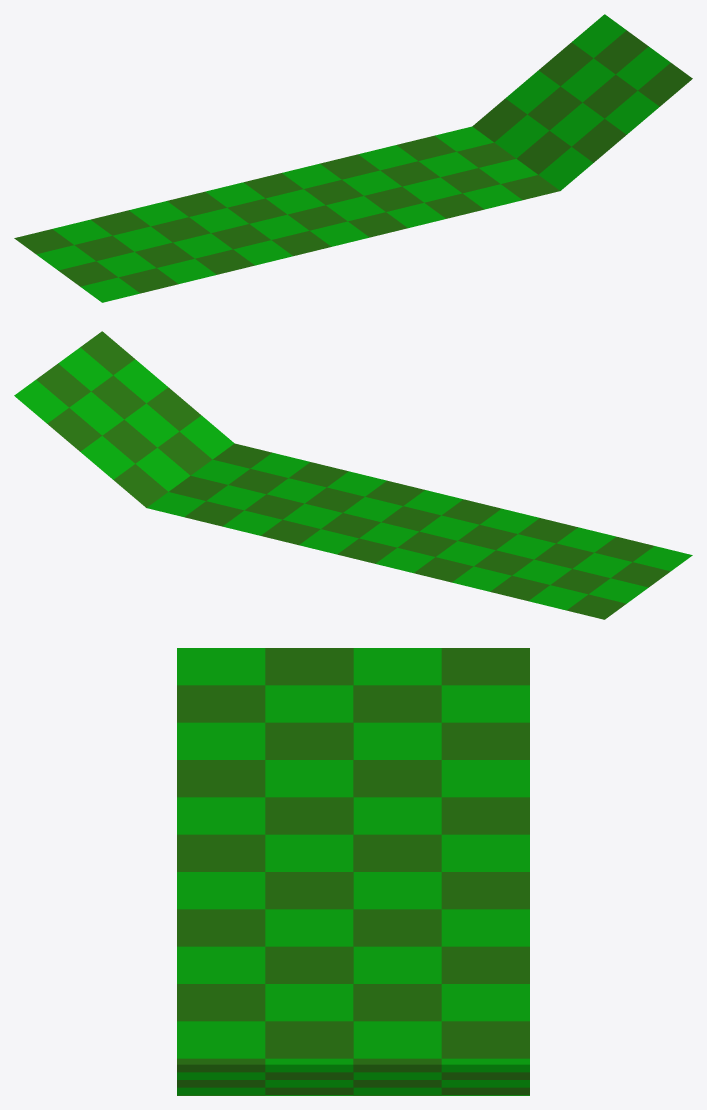
File: hole3Ramp.fbx
3 views of the same model, one above another, from view 1: azimuth 30°, elevation 25°; view 2: azimuth 150°, elevation 25°; view 3: azimuth 270°, elevation 25° (orthographic). The views are drawn at different scales.
Parts seen in each view (by area): view 1: Plane.001; view 2: Plane.001; view 3: Plane.001.
Boxes of the visible parts, x1,y1,x2,y2 form: Plane.001: [14, 14, 692, 302]; Plane.001: [14, 331, 692, 619]; Plane.001: [177, 648, 529, 1095].
Size of the model in its own units: 3090 by 400 by 800.
